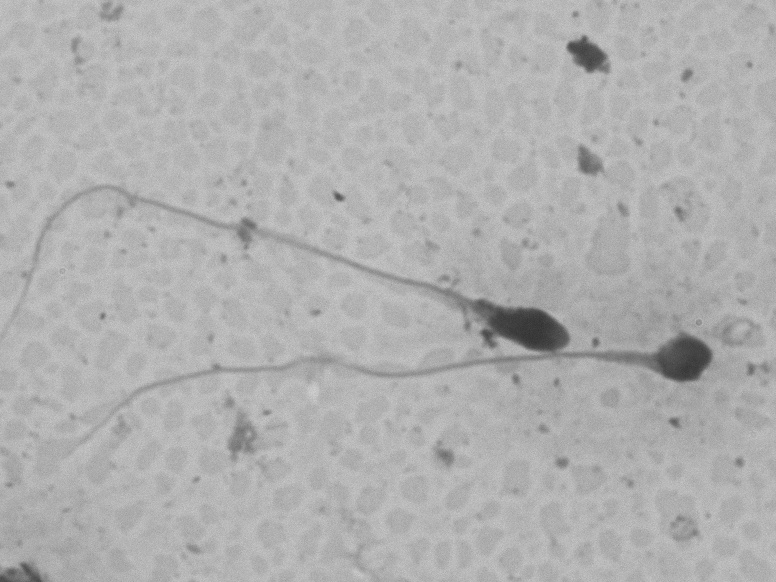Abnormal: (8, 170, 582, 355), (60, 320, 731, 470)
